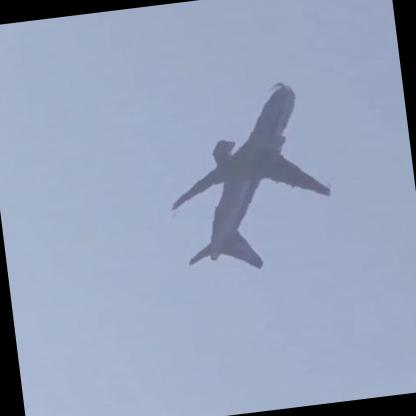plane: (154, 76, 344, 287)
